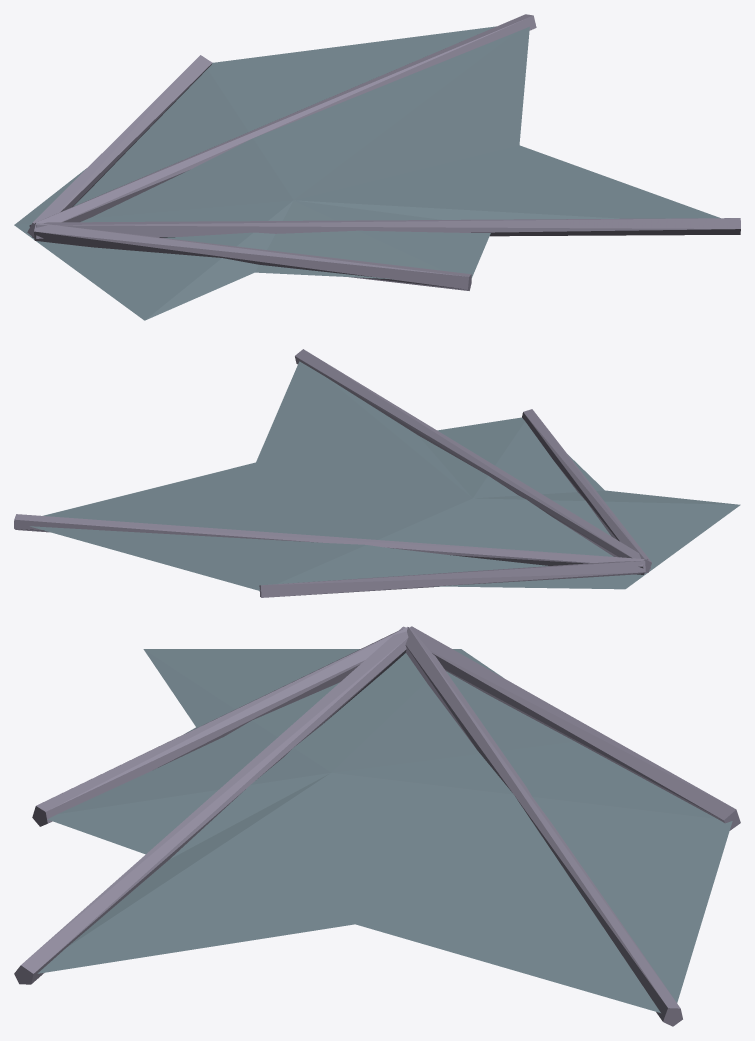
File: wing_r_lod1.glb
3 renders of one model, top to bottom at view 1: azimuth 30°, elevation 25°; view 2: azimuth 150°, elevation 25°; view 3: azimuth 270°, elevation 25°, orthographic. The views are drawn at different scales.
Parts seen in each view (by area): view 1: devil_wing_r_LOD1; view 2: devil_wing_r_LOD1; view 3: devil_wing_r_LOD1.
Part boxes in pixels (<box>): devil_wing_r_LOD1: <box>14,14,740,320</box>; devil_wing_r_LOD1: <box>14,349,740,597</box>; devil_wing_r_LOD1: <box>14,626,740,1026</box>.
Bounding box in the file's own units: 6.48 × 0.3499 × 5.49.
